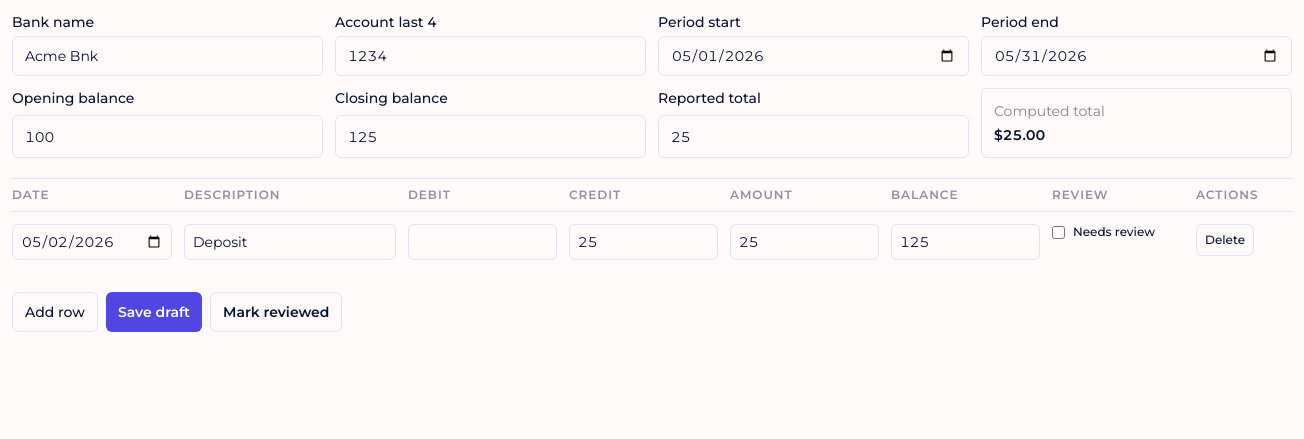
Test: EditableReviewWorkflow › shows failed-save recovery when the PATCH route returns a problem response
Step 1. Click the button "Save draft" → click(154, 312), box [106, 292, 202, 332]
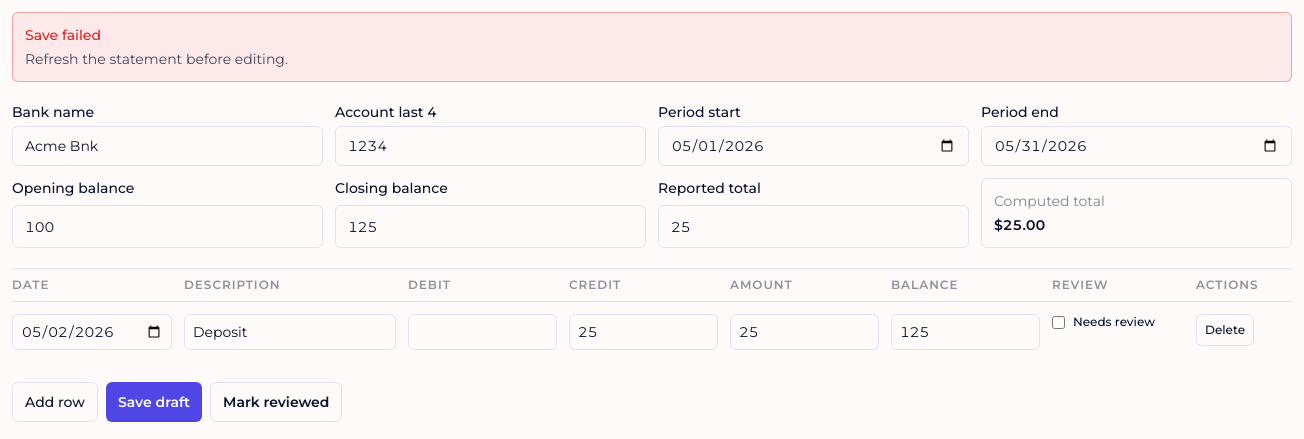
Result: the message shows "Refresh the statement before editing." at [25, 50, 288, 68]
